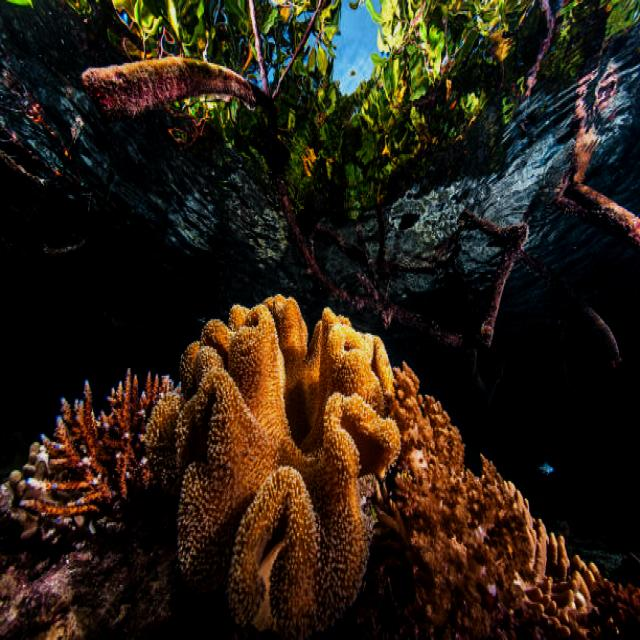Coral: (146, 289, 400, 640), (18, 368, 184, 524), (503, 478, 605, 640)
